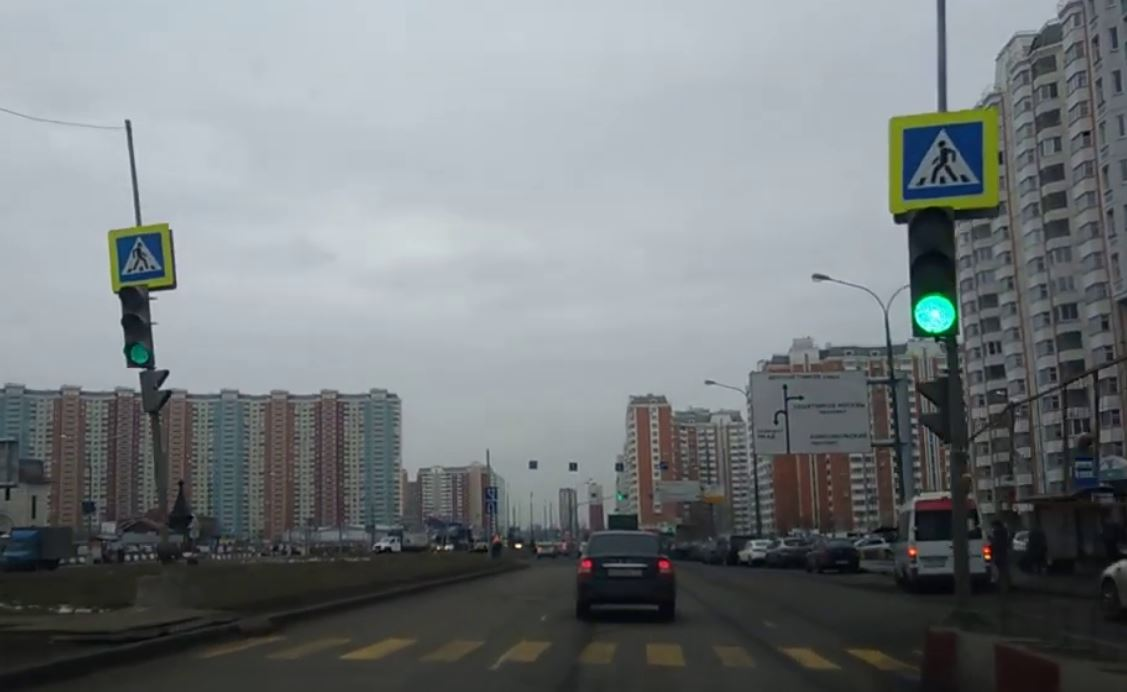Yaya Gecidi: (902, 125, 985, 196), (113, 234, 167, 282)
